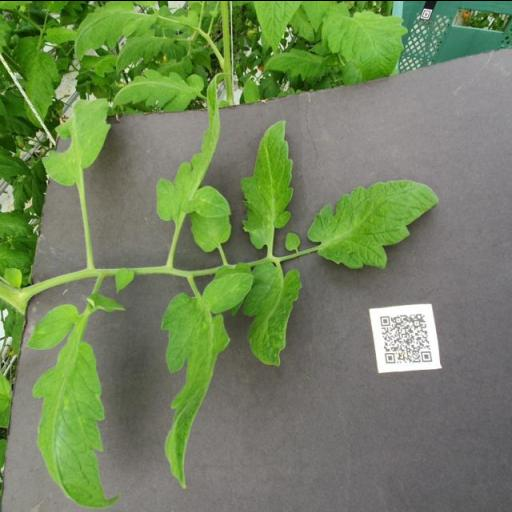Healthy: (158, 268, 256, 490), (24, 303, 122, 508), (306, 177, 440, 268), (239, 118, 294, 248), (242, 260, 302, 367)
